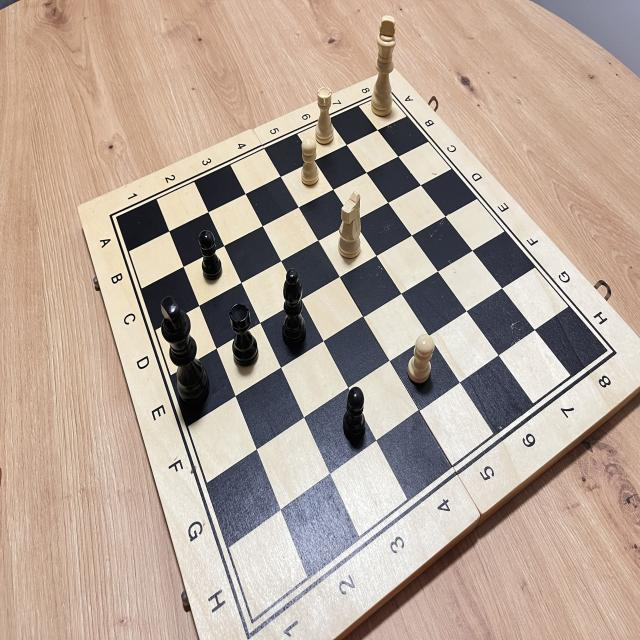black-bishop: (278, 261, 314, 353)
black-king: (152, 287, 215, 412)
black-pawn: (192, 219, 226, 286), (337, 383, 371, 447)
black-rook: (225, 297, 260, 373)
white-king: (365, 7, 405, 125)
white-knight: (331, 188, 369, 272)
white-pawn: (406, 328, 444, 392), (294, 133, 324, 194)
white-rook: (312, 86, 341, 152)
